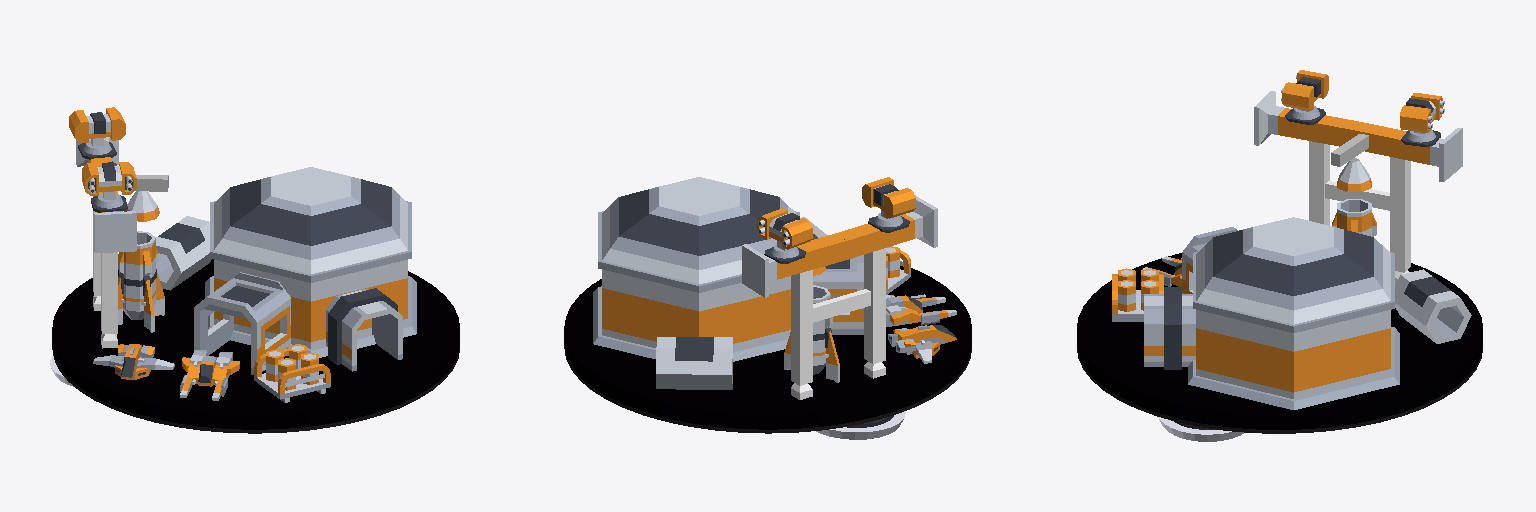
File: ship_factory.obj
The picture shows the model from 3 angles: view 1: azimuth 30°, elevation 25°; view 2: azimuth 150°, elevation 25°; view 3: azimuth 270°, elevation 25°; orthographic projection.
Parts seen in each view (by area): view 1: base, hangar_roundB, corridor_window, corridor_detailed, barrels_rail, pipe_straight, turret_double, turret_double.001, structure-high, craft_miner, pipe_supportHigh.001_pipe_supportHigh.002, craft_speederD (+5 smaller); view 2: hangar_roundB, base, structure-high, pipe_straight, pipe_supportHigh, pipe_supportHigh.001_pipe_supportHigh.002, corridor_window, turret_double.001, turret_double, craft_speederD, craft_miner, rocket_baseA (+1 smaller); view 3: hangar_roundB, base, structure-high, corridor_detailed, pipe_straight, pipe_supportHigh, pipe_supportHigh.001_pipe_supportHigh.002, barrels_rail, turret_double, turret_double.001, rocket_sidesB, corridor_window (+2 smaller).
Boxes of the visible parts, box(x1,y1,x2,y2) form: base: box(50, 259, 459, 433); hangar_roundB: box(205, 167, 416, 357); corridor_window: box(194, 272, 290, 374); corridor_detailed: box(326, 288, 402, 371); barrels_rail: box(254, 344, 330, 402); pipe_straight: box(156, 216, 211, 290); turret_double: box(82, 162, 136, 212); turret_double.001: box(69, 107, 125, 159); structure-high: box(93, 211, 117, 348); craft_miner: box(180, 350, 239, 400); pipe_supportHigh.001_pipe_supportHigh.002: box(94, 191, 136, 252); craft_speederD: box(93, 344, 174, 379); hangar_roundB: box(593, 177, 799, 361); base: box(564, 266, 971, 439); structure-high: box(791, 248, 885, 399); pipe_straight: box(656, 337, 732, 389); pipe_supportHigh: box(742, 234, 846, 297); pipe_supportHigh.001_pipe_supportHigh.002: box(835, 196, 937, 259); corridor_window: box(813, 255, 863, 334); turret_double.001: box(757, 208, 812, 263); turret_double: box(862, 177, 915, 232); craft_speederD: box(888, 325, 956, 363); craft_miner: box(886, 294, 956, 326); rocket_baseA: box(784, 331, 839, 382); hangar_roundB: box(1188, 217, 1399, 409); base: box(1077, 253, 1482, 441); structure-high: box(1309, 141, 1410, 284); corridor_detailed: box(1144, 287, 1195, 369); pipe_straight: box(1395, 269, 1471, 343); pipe_supportHigh: box(1354, 122, 1462, 181); pipe_supportHigh.001_pipe_supportHigh.002: box(1254, 91, 1362, 146); barrels_rail: box(1112, 268, 1163, 321); turret_double: box(1281, 70, 1328, 124); turret_double.001: box(1400, 93, 1444, 146); rocket_sidesB: box(1332, 199, 1376, 236); corridor_window: box(1182, 227, 1237, 293).
Size of the model in its own units: 3.88 by 2.32 by 3.86.